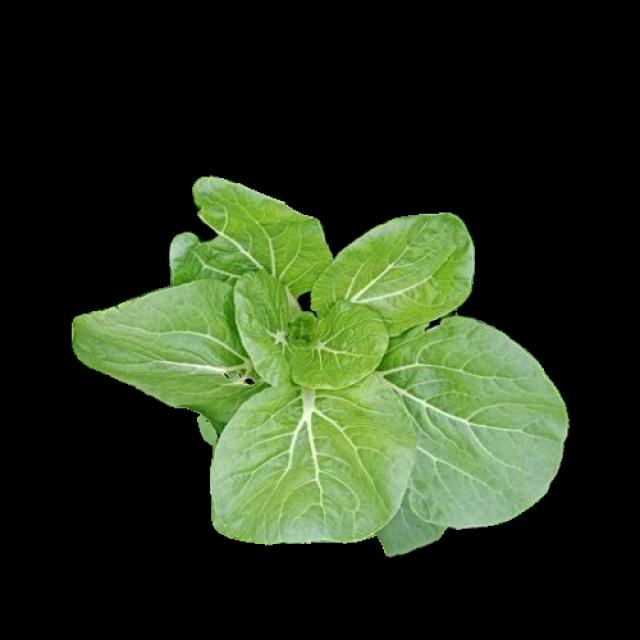mature: (73, 175, 567, 557)
unhealthy: (71, 280, 272, 425), (166, 175, 332, 306)
